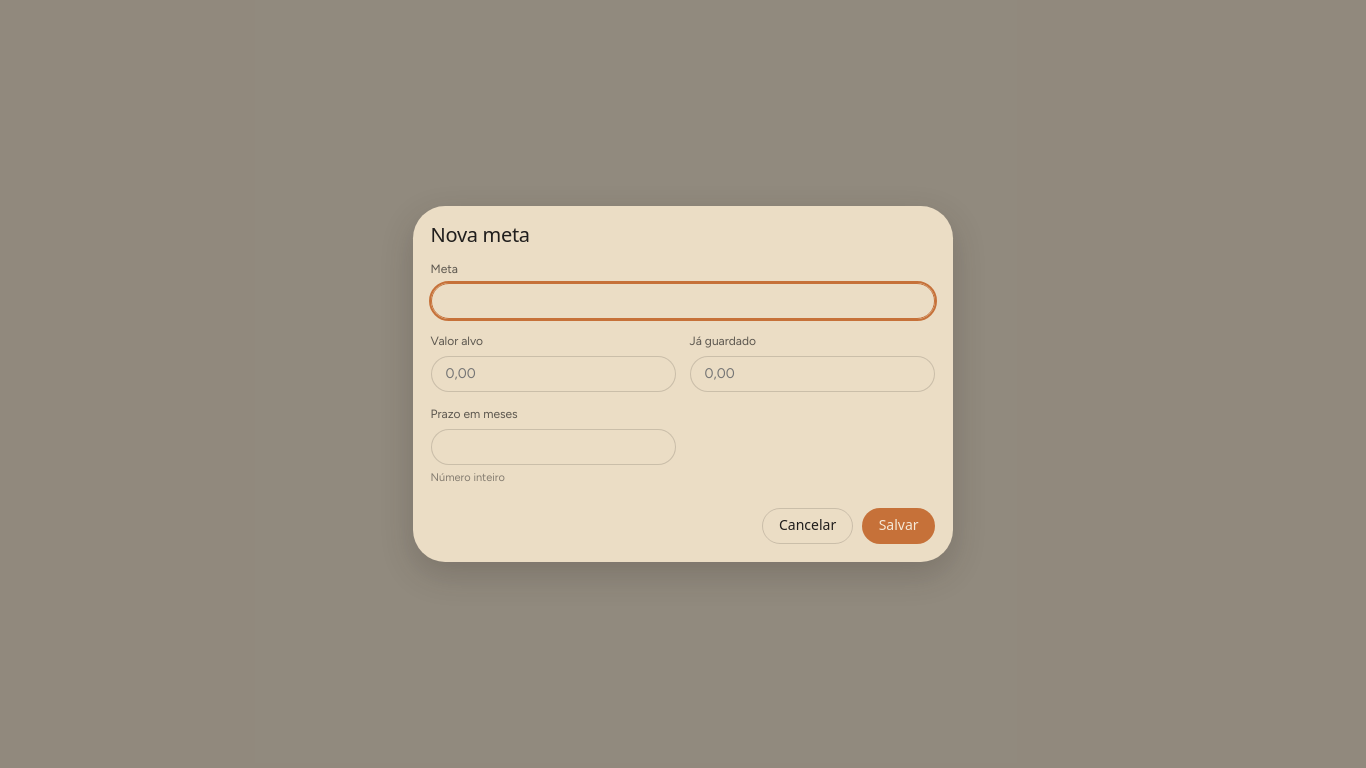
it: envio › fecha e avisa depois de salvar
Type "Carro" into the field labelled "Meta" at {"x": 683, "y": 301}, box [431,283,935,319]
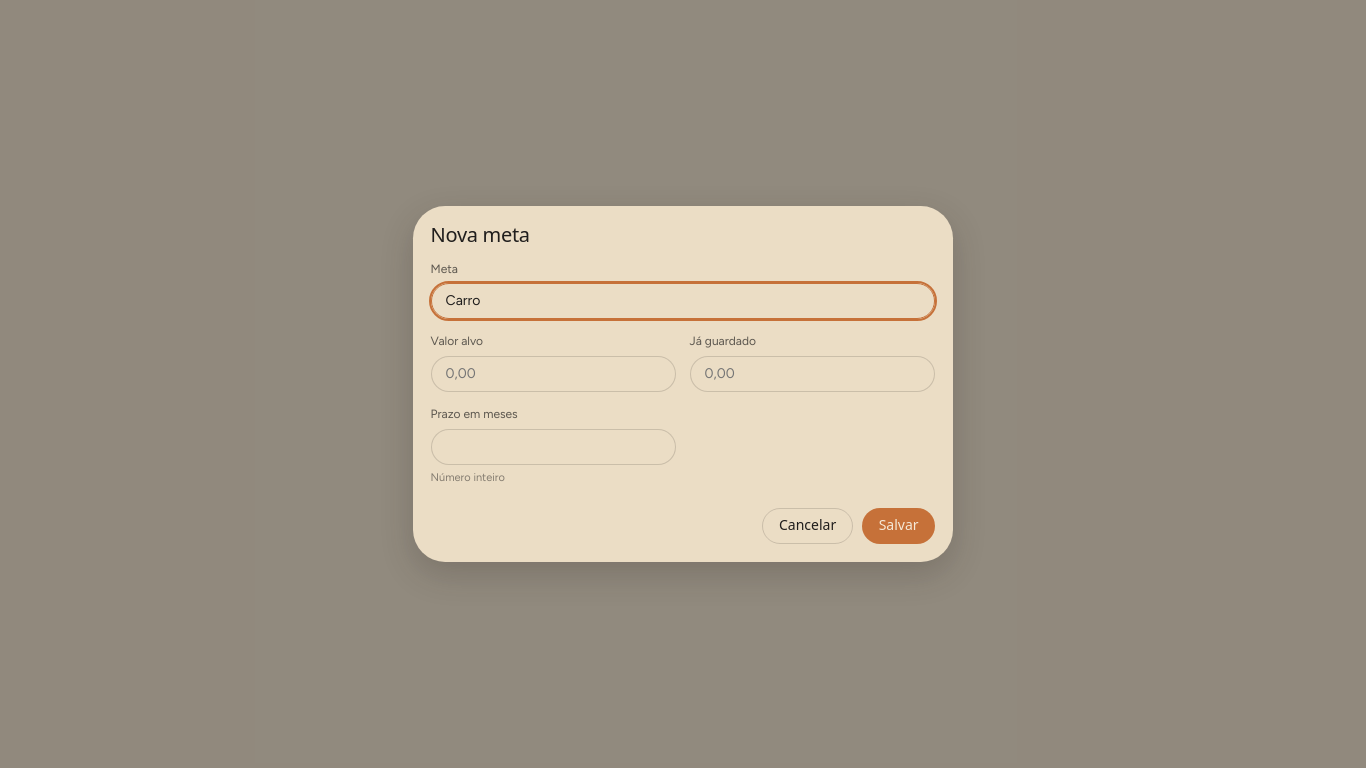
Type "45000" into the field labelled "Valor alvo" at {"x": 554, "y": 374}, box [431,356,676,392]
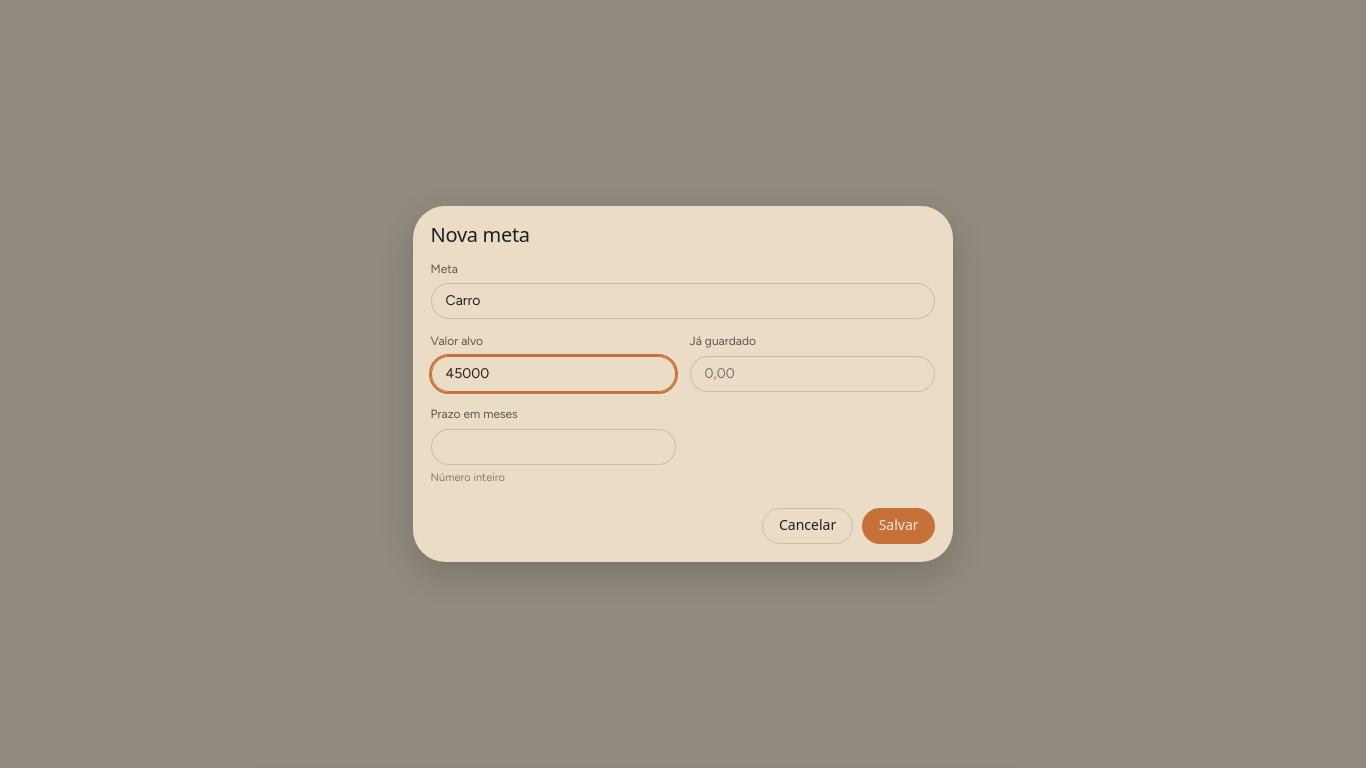
Type "0" into the field labelled "Já guardado" at {"x": 812, "y": 374}, box [690,356,935,392]
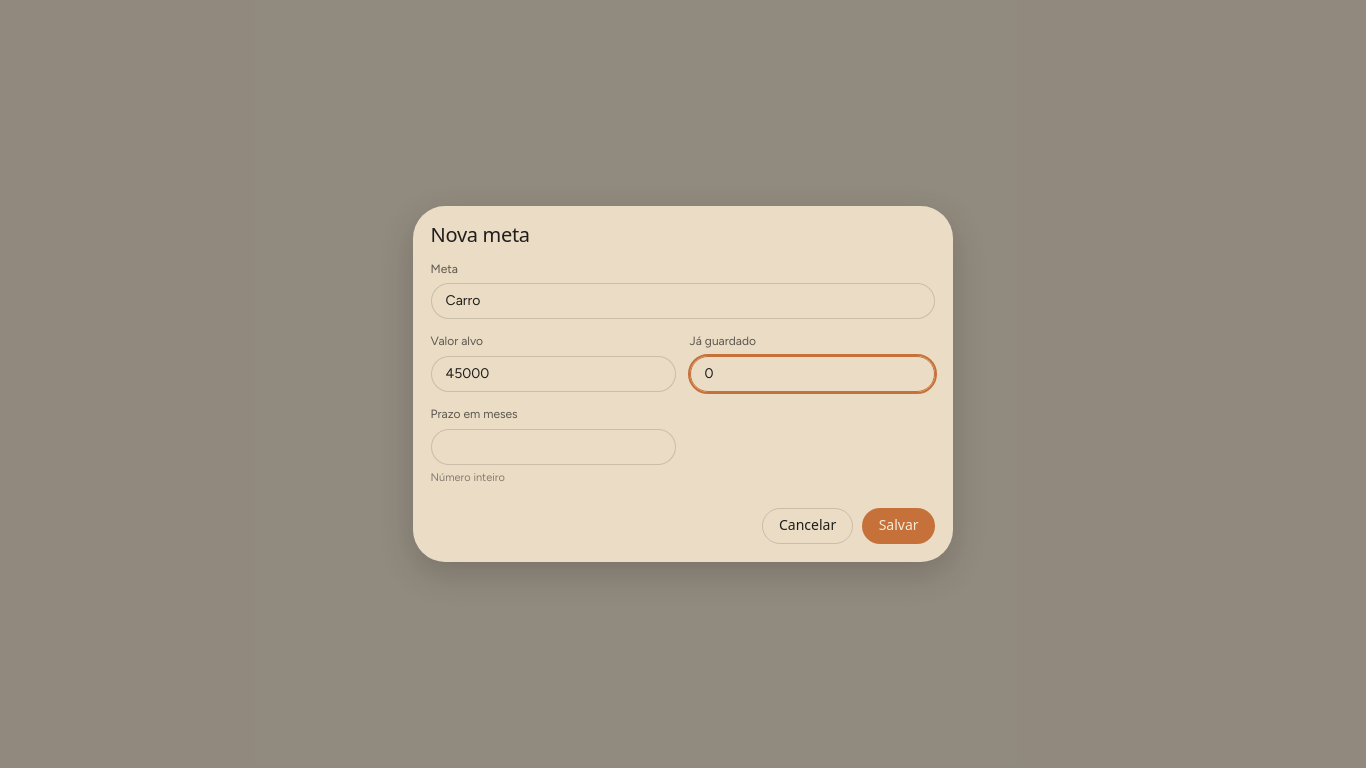
Type "24" into the number field labelled "Prazo em meses" at {"x": 554, "y": 447}, box [431,429,676,465]
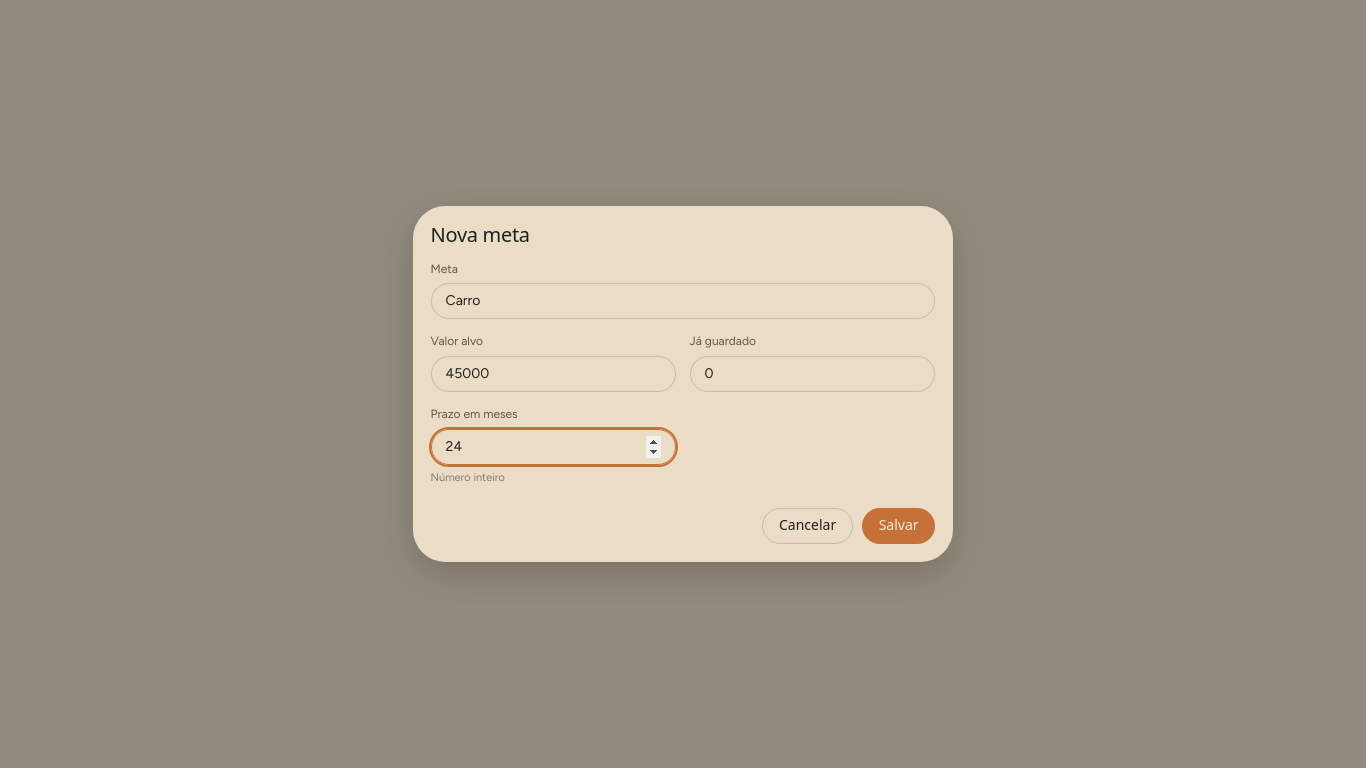
Click the button "Salvar" at {"x": 899, "y": 526}, box [862,508,935,544]
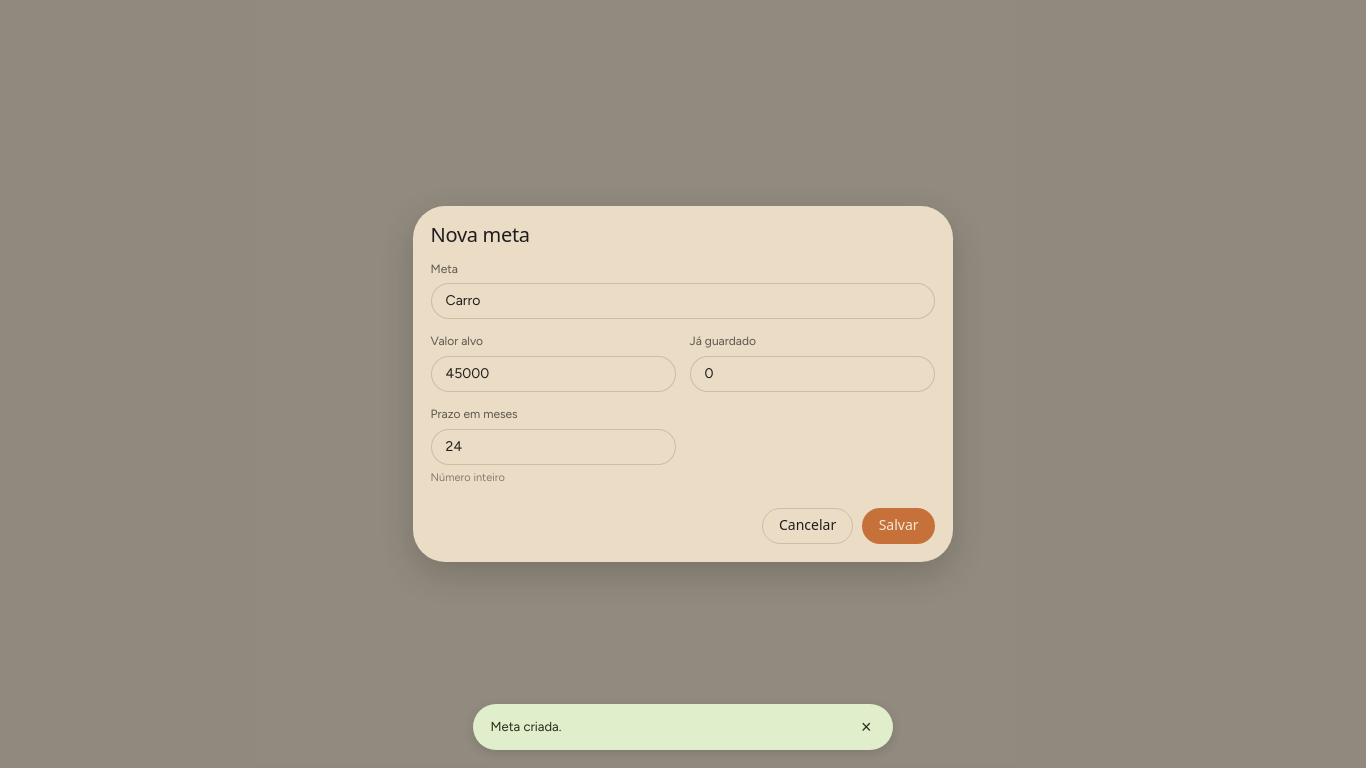
Expected: the text "Meta criada." is shown, [491,719,561,734]
